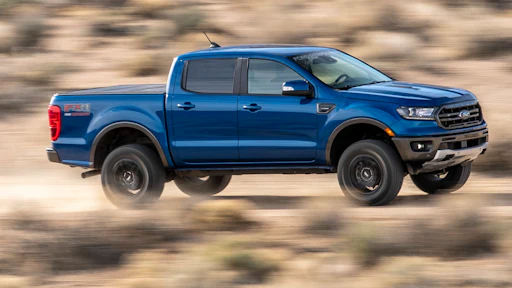car: (36, 41, 491, 209)
